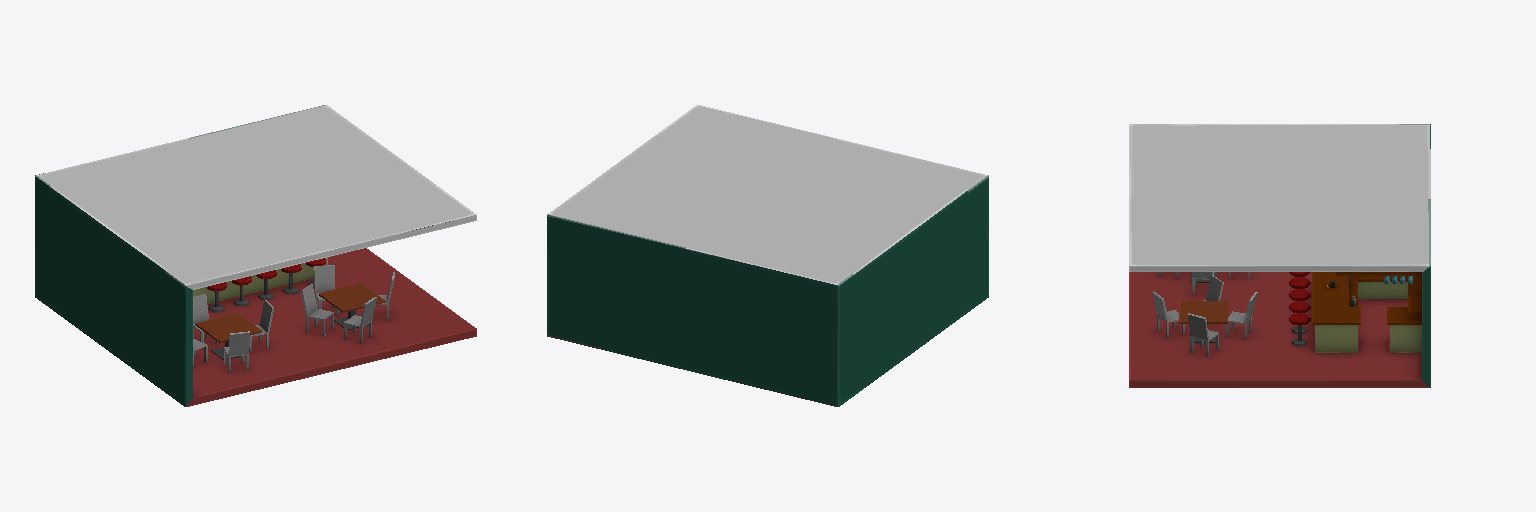
3 views of the same model, side by side, from view 1: azimuth 30°, elevation 25°; view 2: azimuth 150°, elevation 25°; view 3: azimuth 270°, elevation 25° (orthographic).
Parts seen in each view (by area): view 1: Bar_mesh; view 2: Bar_mesh; view 3: Bar_mesh.
Boxes of the visible parts, box(x1,y1,x2,y2) form: Bar_mesh: box(35, 105, 476, 406); Bar_mesh: box(547, 105, 988, 406); Bar_mesh: box(1129, 124, 1430, 387).
Size of the model in its own units: 21.2 by 8.47 by 18.97.
Materials: 2 (2 with a texture image).